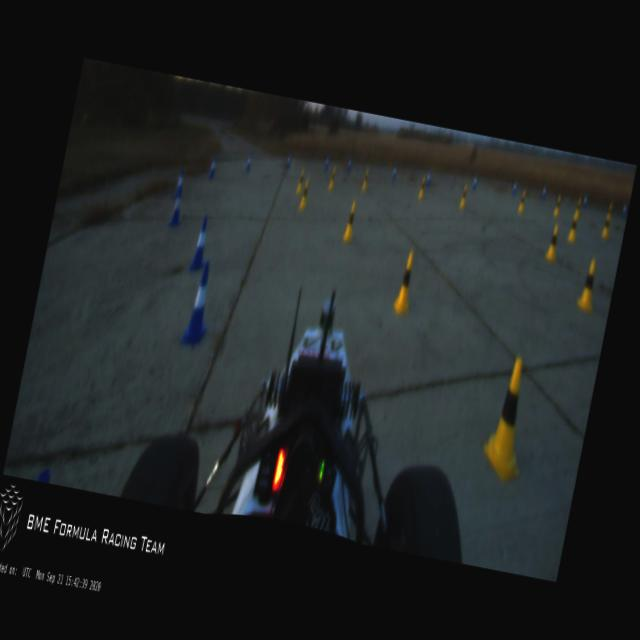blue_cone: (180, 260, 220, 349), (189, 215, 213, 272), (169, 188, 187, 228), (174, 168, 187, 198), (208, 156, 217, 178), (582, 192, 590, 208), (245, 154, 252, 172), (472, 173, 479, 190), (426, 170, 432, 188), (512, 179, 518, 196), (392, 164, 398, 180), (622, 201, 628, 217), (286, 153, 292, 168), (324, 156, 330, 170), (542, 185, 547, 200), (347, 158, 352, 172)
yellow_cone: (478, 355, 542, 484), (392, 248, 421, 317), (575, 258, 601, 314), (342, 200, 360, 243), (544, 222, 562, 262), (566, 210, 580, 242), (298, 179, 310, 211), (600, 212, 613, 240), (459, 183, 469, 209), (296, 169, 306, 194), (552, 194, 562, 218), (328, 166, 337, 192), (573, 197, 583, 220), (362, 167, 371, 191), (518, 190, 526, 214), (418, 176, 426, 198), (608, 201, 614, 213)
